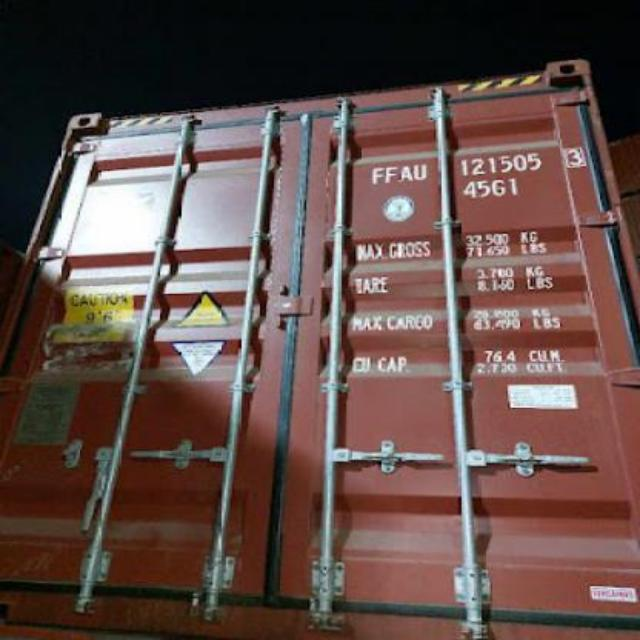0: (512, 148, 528, 174)
1: (456, 154, 469, 176), (488, 152, 496, 172)
2: (470, 152, 486, 178)
3: (564, 147, 584, 173)
5: (526, 148, 542, 172), (498, 150, 512, 177)
A: (398, 158, 412, 188)
F: (382, 159, 398, 191), (371, 163, 384, 190)
U: (412, 160, 428, 186)
